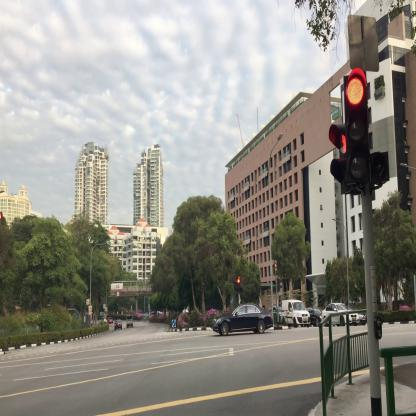red_traffic_light: (343, 75, 370, 182), (237, 278, 240, 292)
